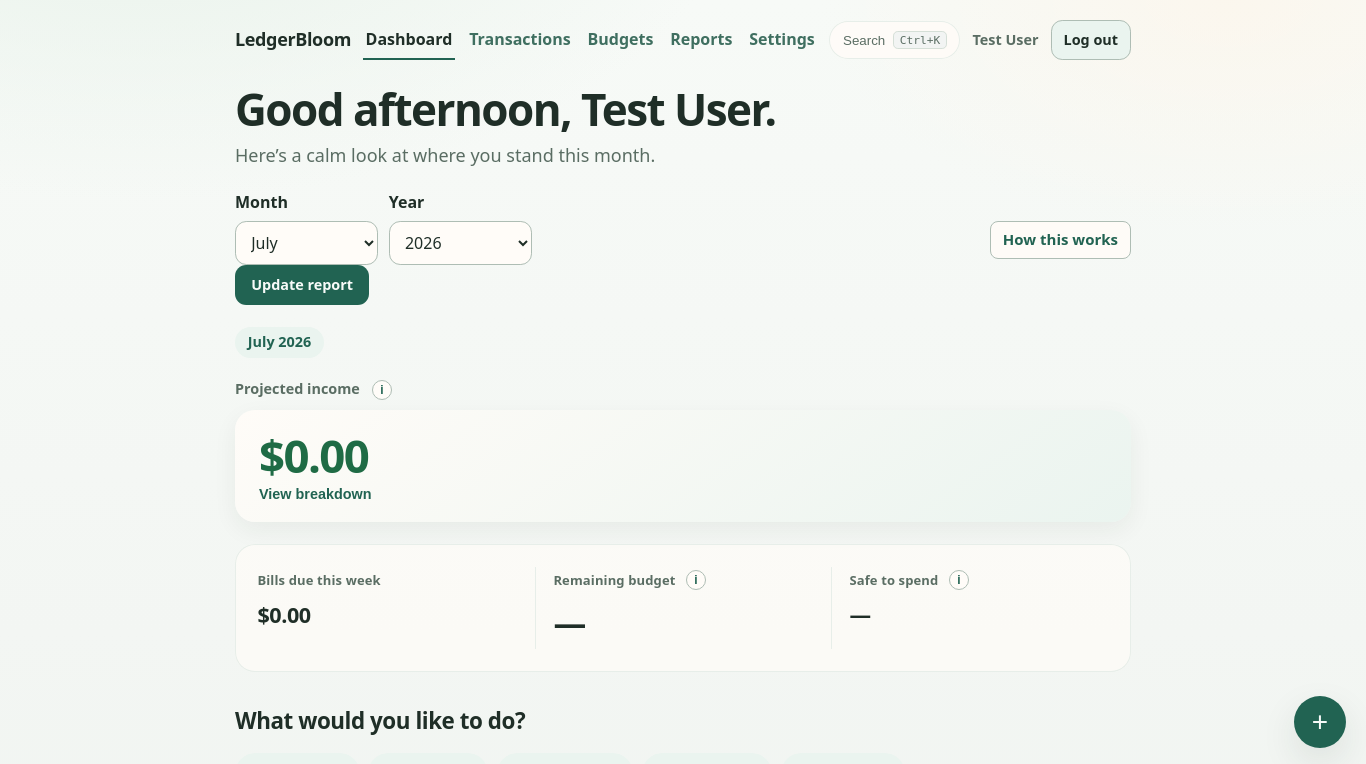
Test: Budget routes › navigates from Dashboard to Budgets via primary nav
The image size is (1366, 764).
Expected: the heading "Good afternoon, Test User." is shown, [235,79,776,139]
Step 1. Click the link "Budgets" → (620,39), box [588,28,653,50]
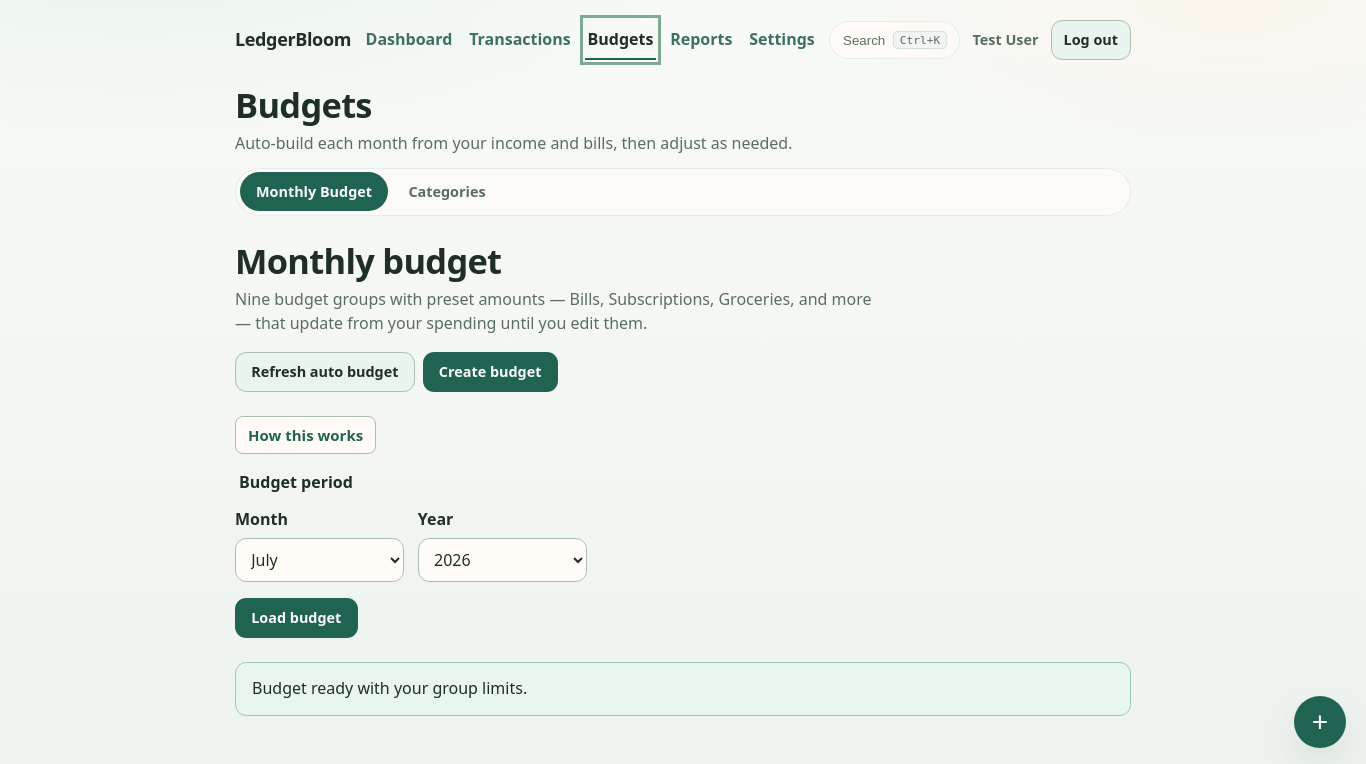
Expected: the heading "Monthly budget" is shown, [235,237,501,284]
